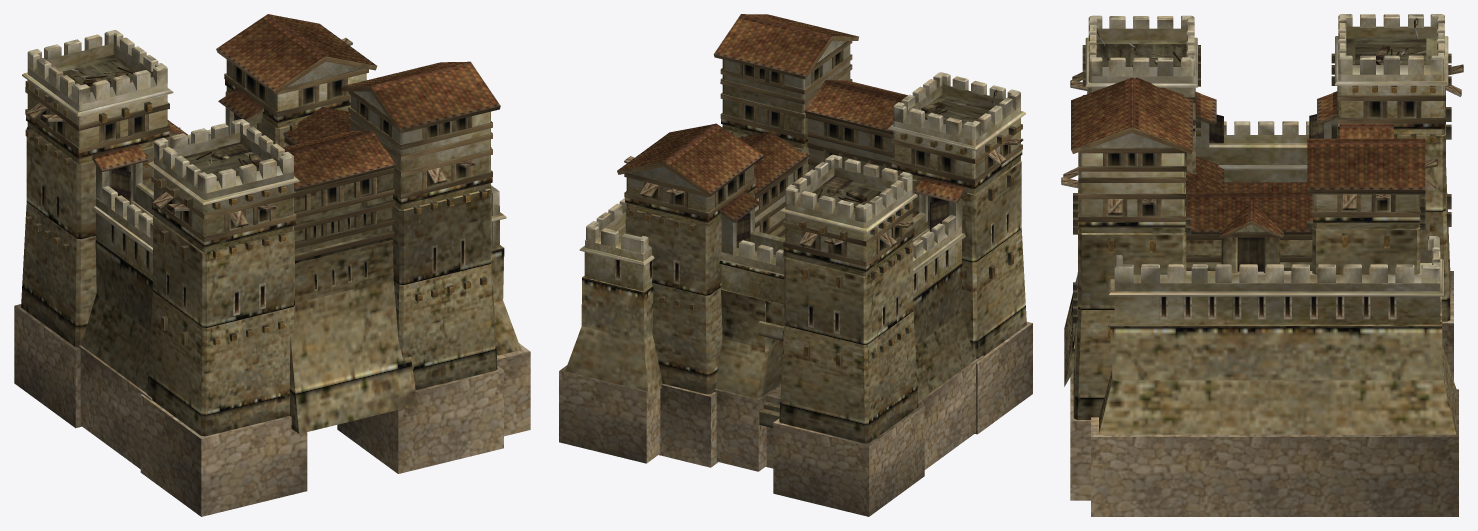
Rendered from spart_fortress.glb.
The picture shows the model from 3 angles, left to right: view 1: azimuth 30°, elevation 25°; view 2: azimuth 150°, elevation 25°; view 3: azimuth 270°, elevation 25°; orthographic projection. The views are drawn at different scales.
Parts seen in each view (by area): view 1: spart_fortress_part0; view 2: spart_fortress_part0; view 3: spart_fortress_part0.
Part boxes in pixels (left/top/right/bottom): spart_fortress_part0: left=14, top=14, right=530, bottom=516; spart_fortress_part0: left=559, top=14, right=1032, bottom=516; spart_fortress_part0: left=1061, top=14, right=1463, bottom=516.
Bounding box in the file's own units: 6 × 6.05 × 5.93.
Materials: 2 (2 with a texture image).
